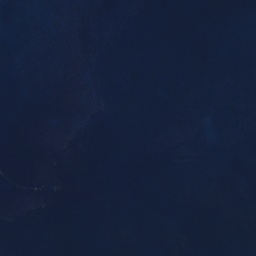Marine Debris: (0, 168, 46, 194)
